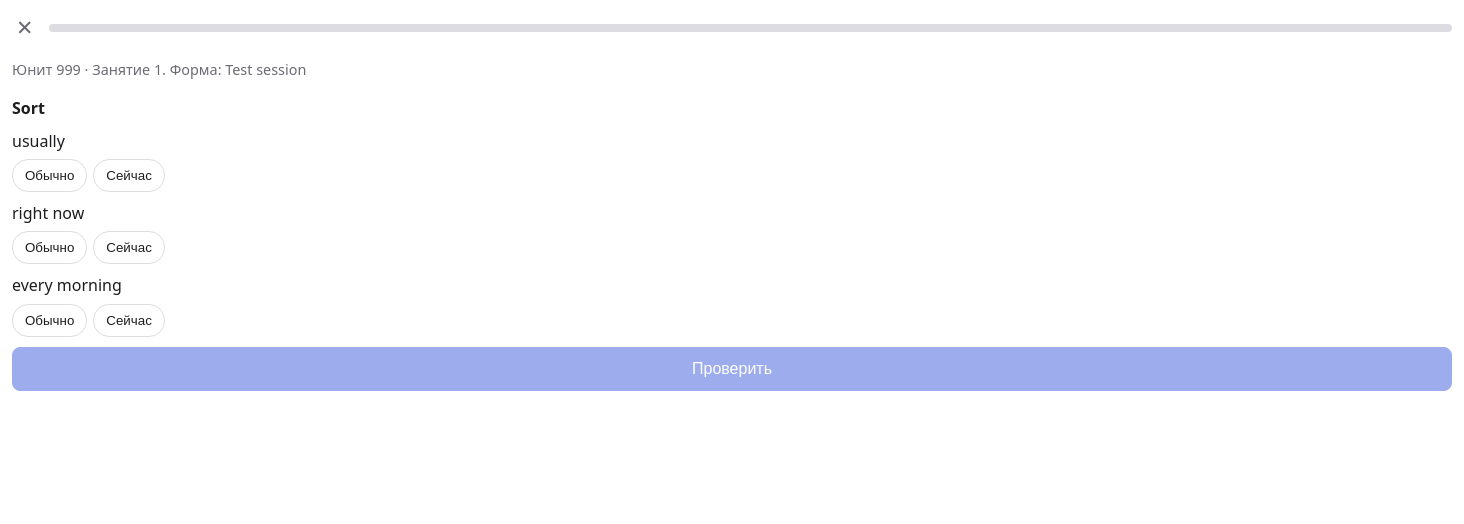
Test case: a sorting task comes back with only the wrongly sorted words
Step 1. Click the button "Обычно" below "usually" → click(50, 176), box [12, 159, 87, 192]
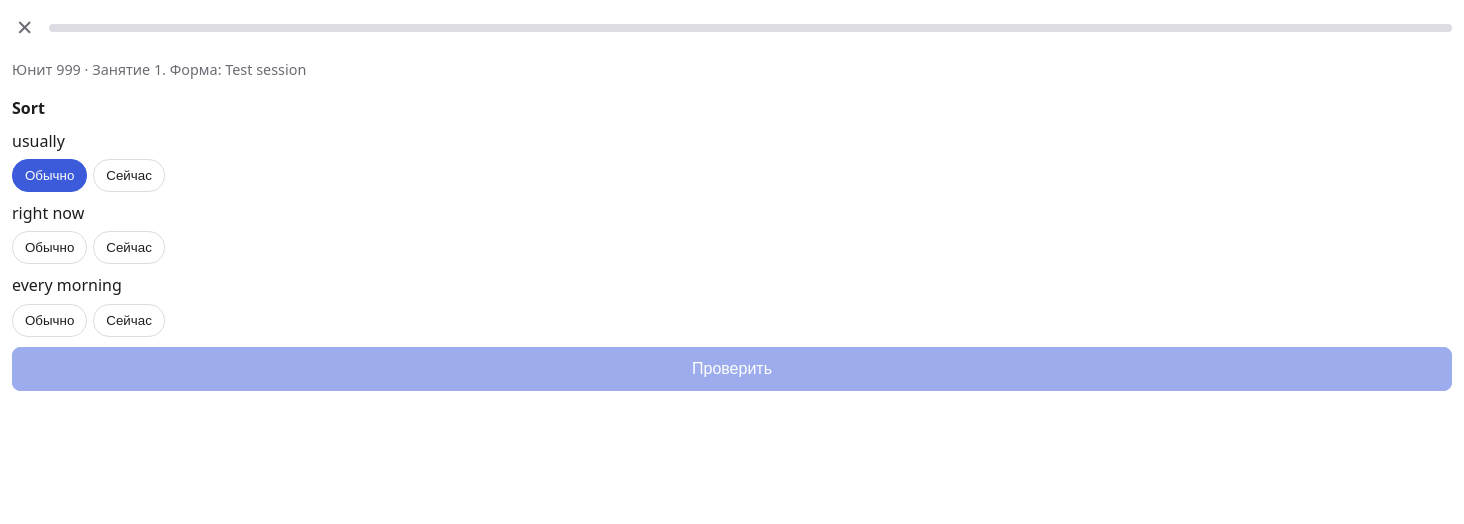
Step 2. Click the button "Обычно" below "right now" → click(50, 248), box [12, 231, 87, 264]
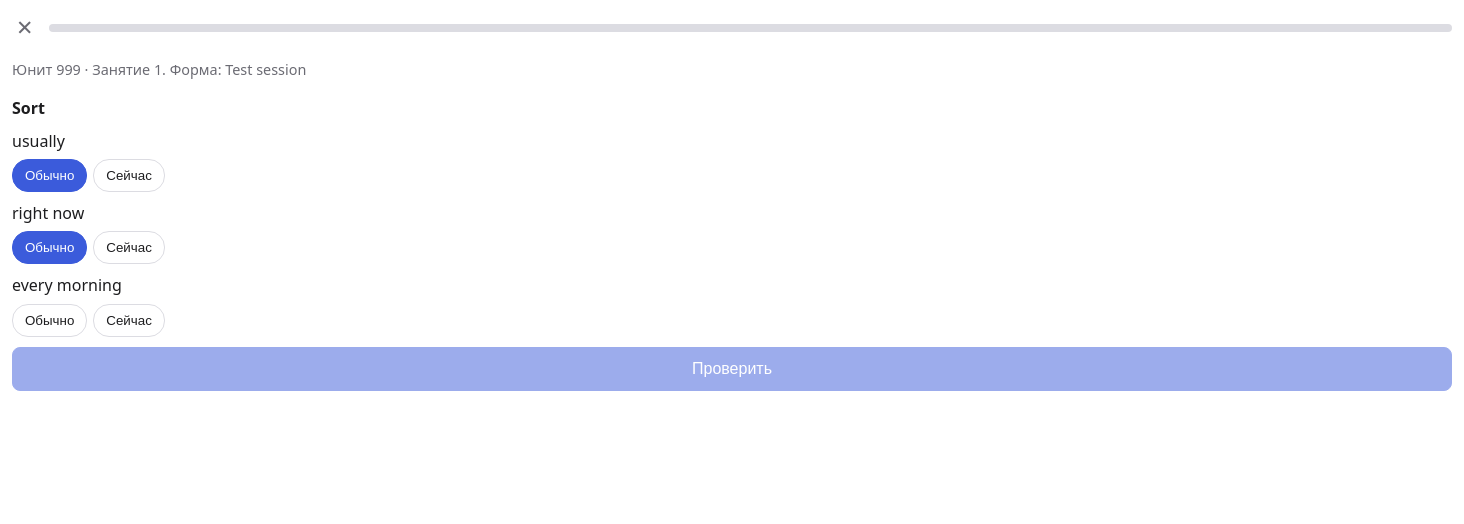
Step 3. Click the button "Обычно" below "every morning" → click(50, 320), box [12, 304, 87, 337]
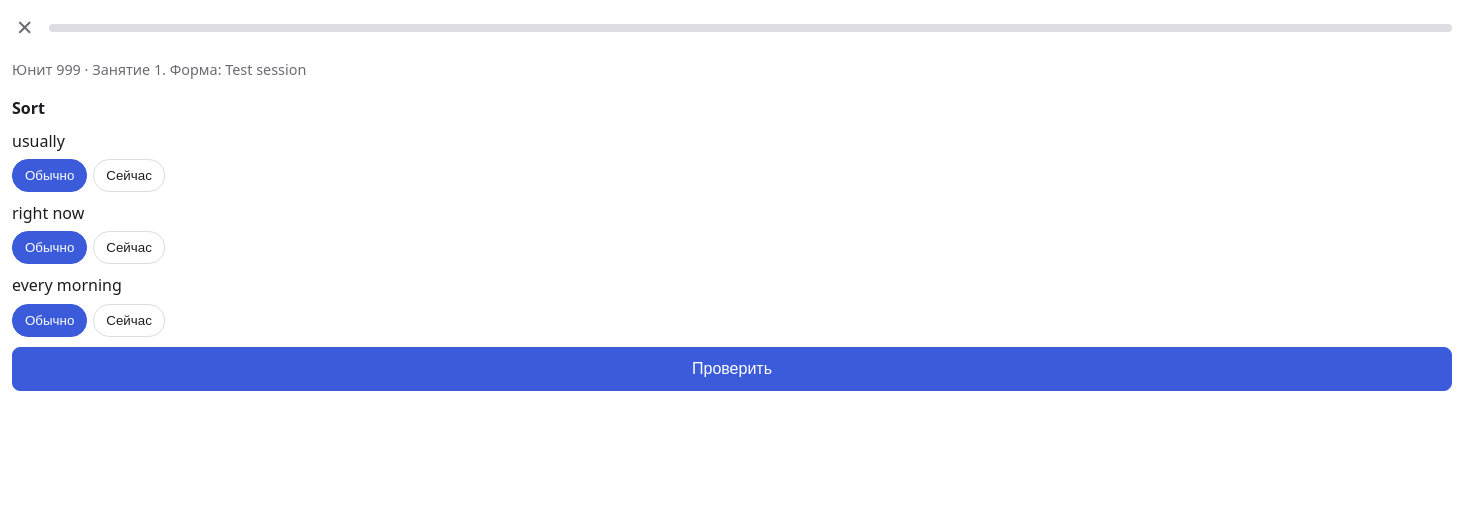
Step 4. Click the button "Проверить" → click(732, 369), box [12, 347, 1452, 391]
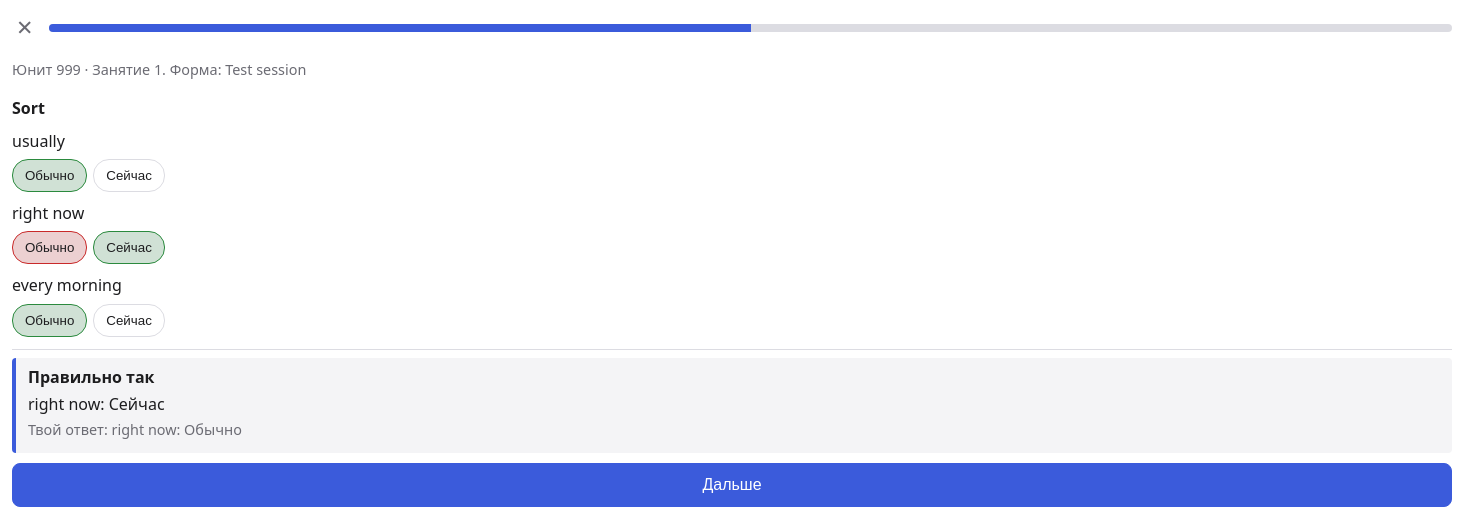
Step 5. Click the button "Дальше" → click(732, 485), box [12, 463, 1452, 507]
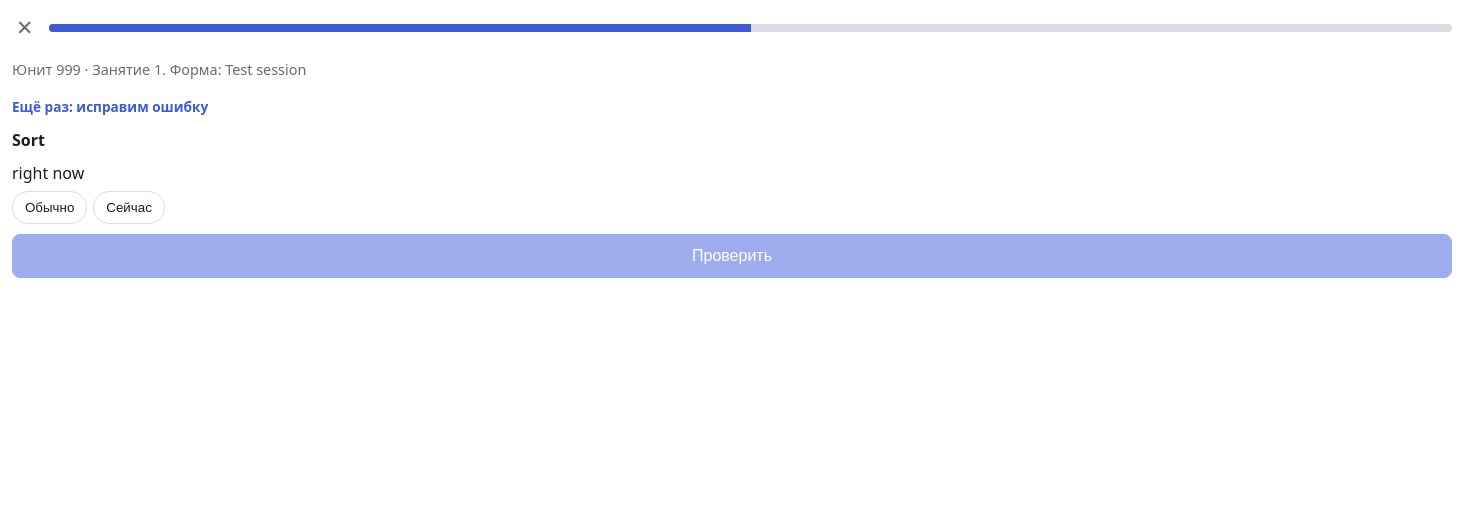
Check: the text "Ещё раз: исправим ошибку" is shown, box [12, 97, 208, 116]
